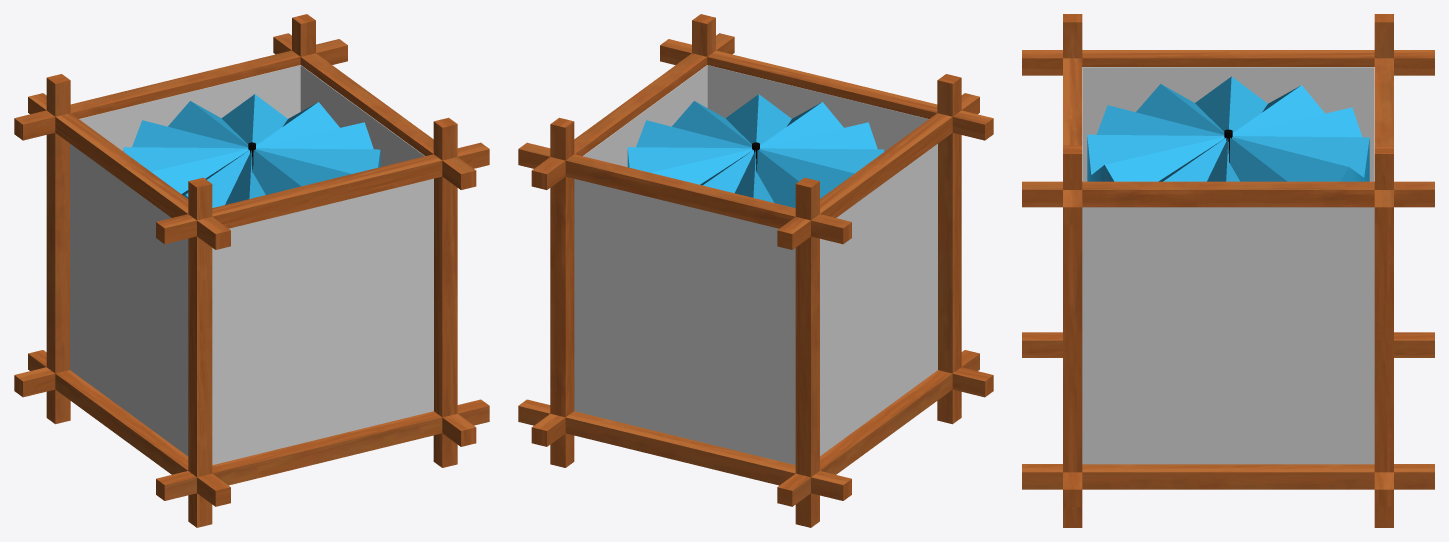
Rendered from lampeEnfant.fbx.
3 renders of one model, left to right at view 1: azimuth 30°, elevation 25°; view 2: azimuth 150°, elevation 25°; view 3: azimuth 270°, elevation 25°, orthographic. The views are drawn at different scales.
Parts seen in each view (by area): view 1: Contour, Bois1, Bois3, Cylinder, Bois2; view 2: Contour, Bois1, Bois3, Cylinder, Bois2; view 3: Contour, Bois2, Cylinder, Bois1, Bois3.
Boxes of the visible parts, left/top/right/bottom form: Contour: left=70, top=65, right=433, bottom=464; Bois1: left=46, top=14, right=457, bottom=527; Bois3: left=14, top=39, right=489, bottom=500; Cylinder: left=123, top=94, right=380, bottom=207; Bois2: left=28, top=33, right=476, bottom=506; Contour: left=574, top=65, right=937, bottom=464; Bois1: left=550, top=14, right=961, bottom=527; Bois3: left=518, top=39, right=993, bottom=500; Cylinder: left=627, top=94, right=884, bottom=207; Bois2: left=531, top=33, right=979, bottom=506; Contour: left=1082, top=67, right=1374, bottom=464; Bois2: left=1022, top=50, right=1434, bottom=489; Cylinder: left=1087, top=76, right=1369, bottom=181; Bois1: left=1063, top=14, right=1393, bottom=527; Bois3: left=1063, top=58, right=1393, bottom=506.
Bounding box in the file's own units: 264 × 264 × 264.
Materials: 4 (2 with a texture image).
